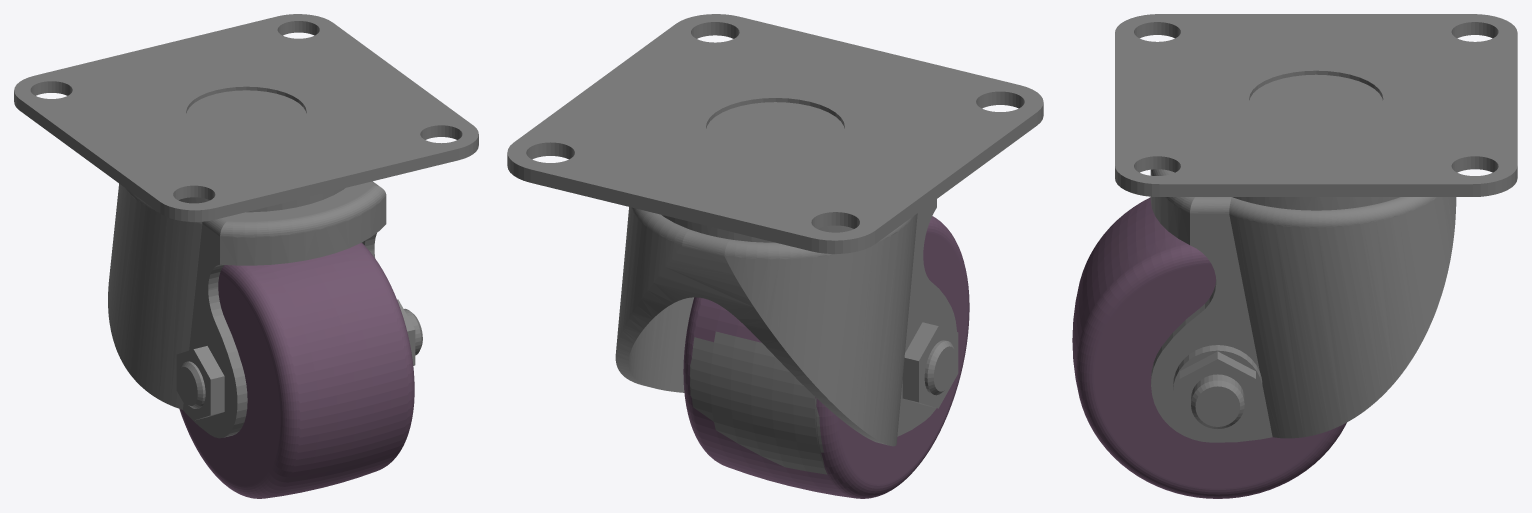
The model's file is caster.dae.
3 views of the same model, side by side, from view 1: azimuth 30°, elevation 25°; view 2: azimuth 150°, elevation 25°; view 3: azimuth 270°, elevation 25° (orthographic). The views are drawn at different scales.
Parts seen in each view (by area): view 1: Caster; view 2: Caster; view 3: Caster.
Boxes of the visible parts, box(x1,y1,x2,y2) form: Caster: box(14, 14, 478, 498); Caster: box(507, 14, 1043, 498); Caster: box(1072, 14, 1517, 498).
Size of the model in its own units: 0.0792 by 0.0876 by 0.081.
